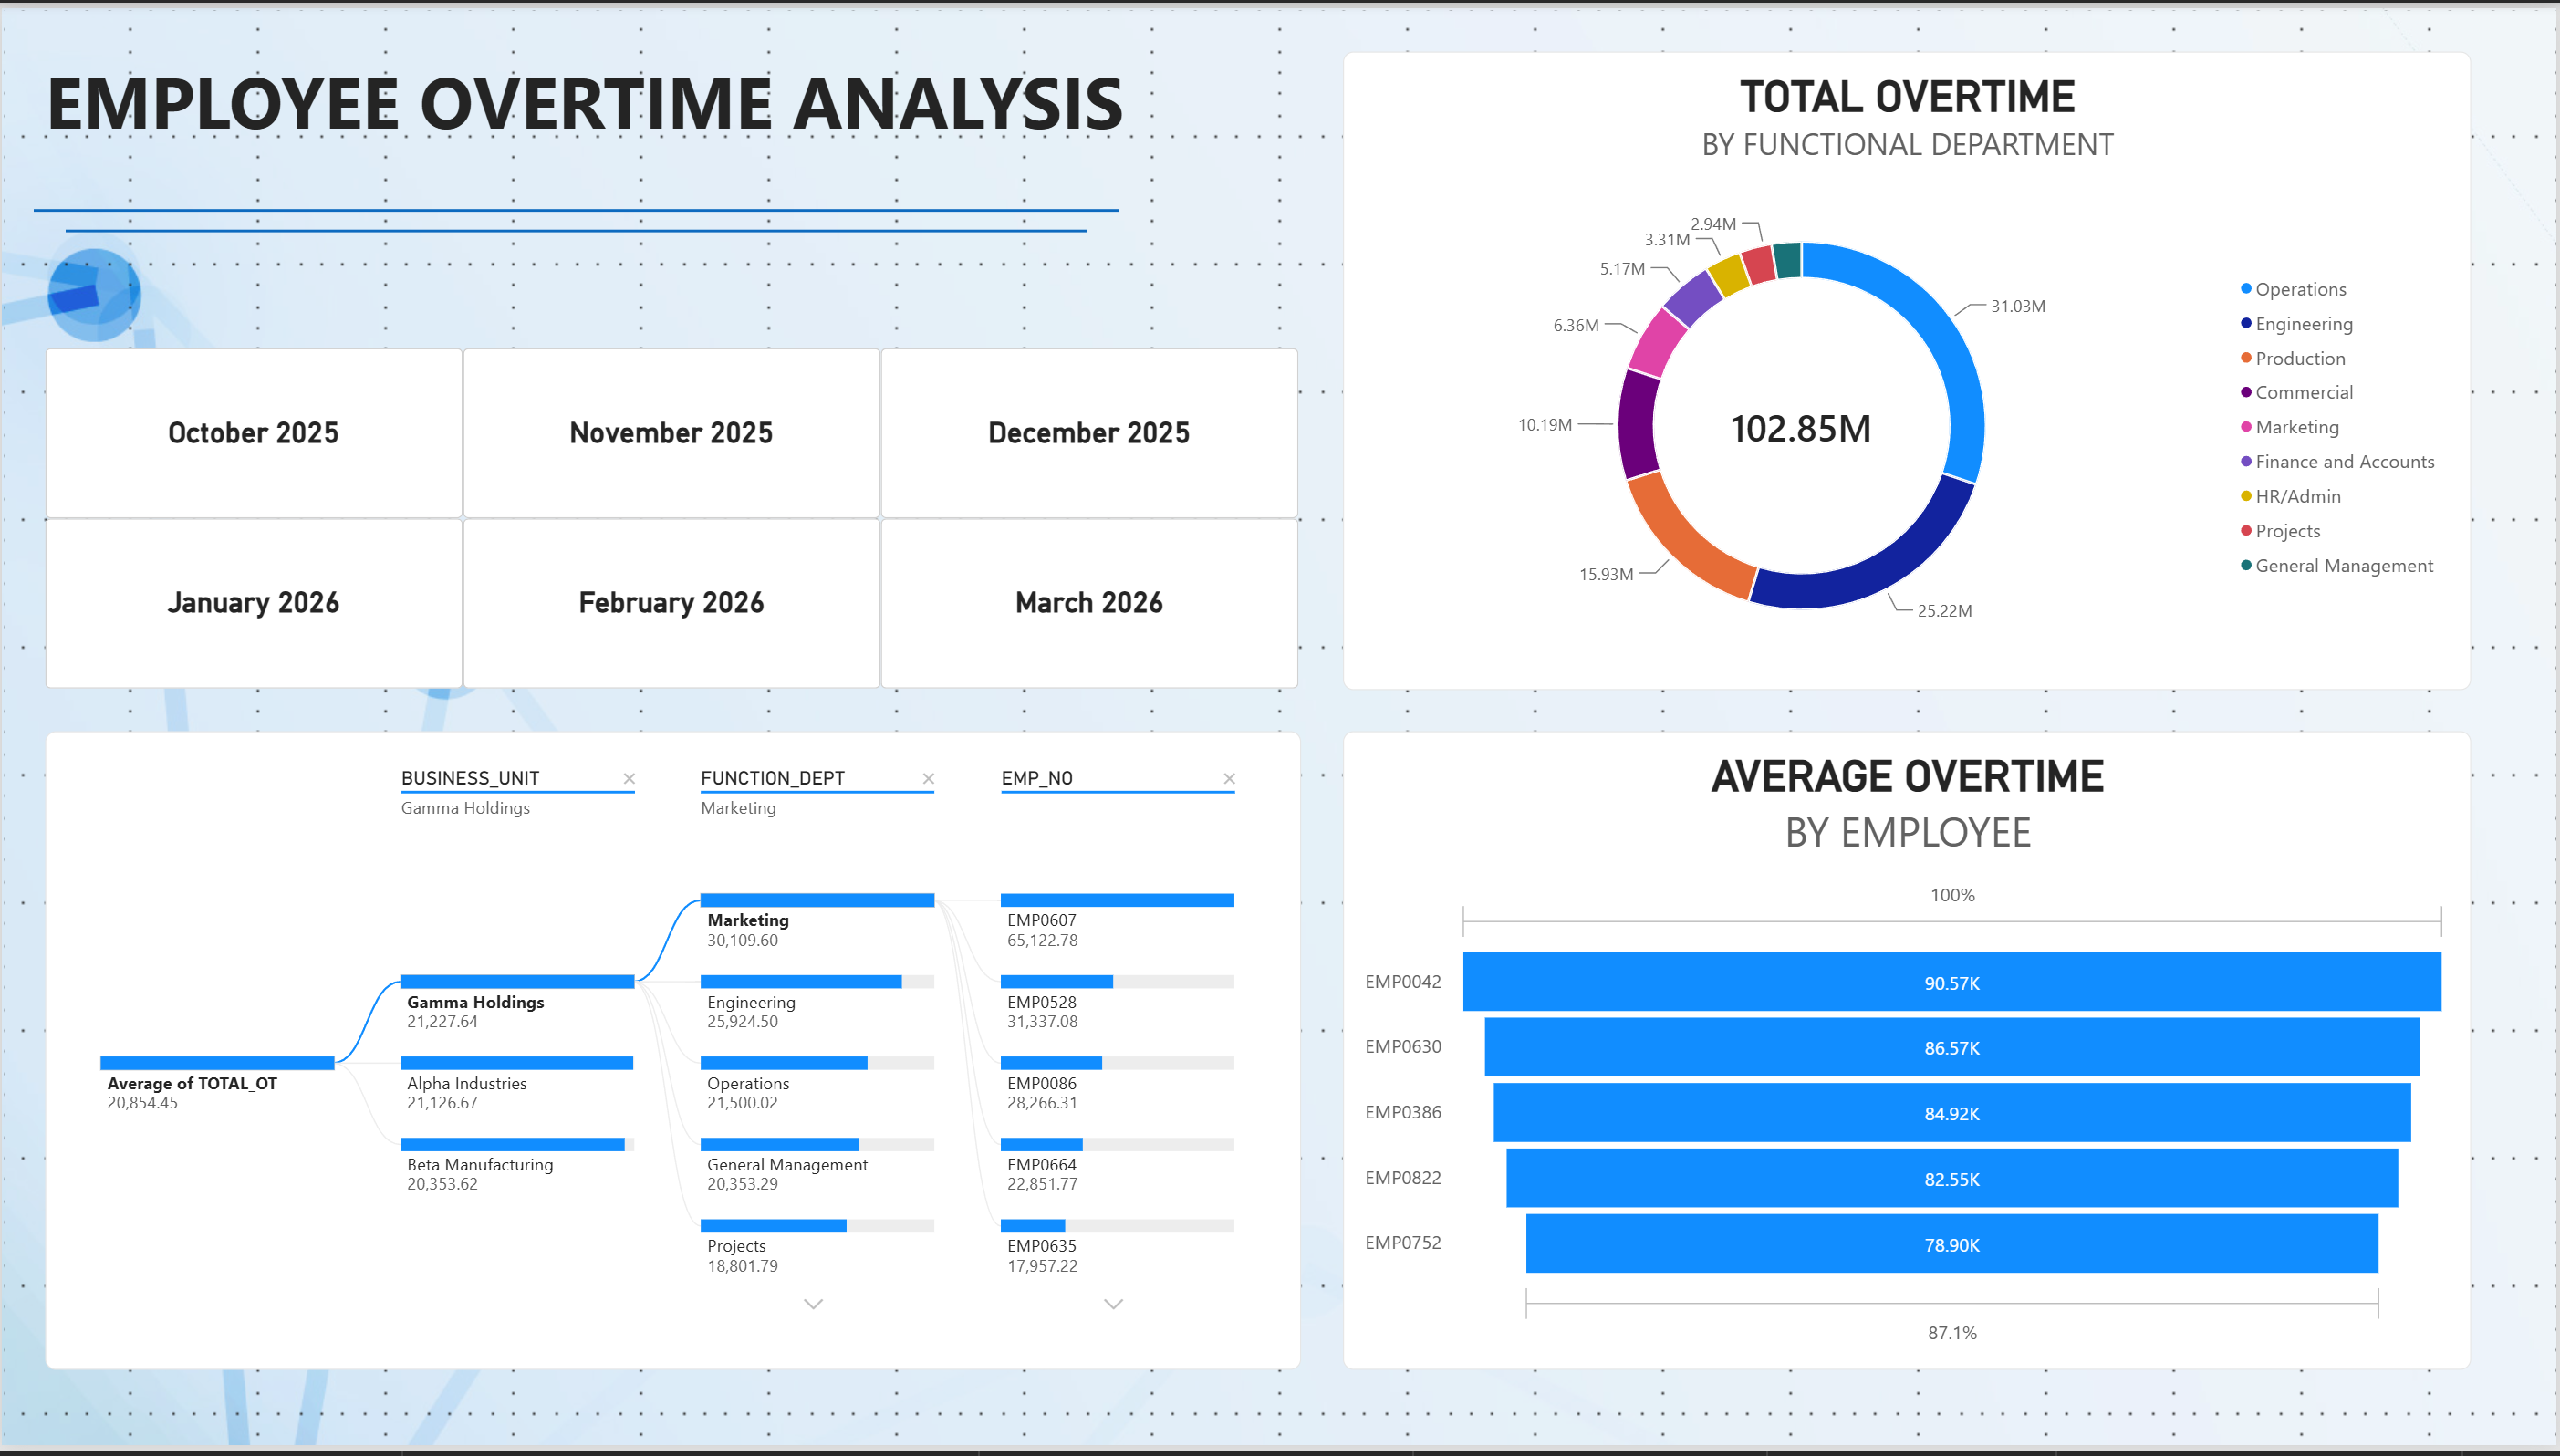

The page's visual inventory and layout, read from the dashboard file:
{"tool":"powerbi","page":{"name":"OVERTIME ANALYSIS","canvas":[1920,1080],"ordinal":3},"visuals":[{"type":"group","id":"g1","title":"Group 1","box":[24,0,952,320],"z":0},{"type":"textbox","box":[32,32,944,224],"z":0,"group":"g1"},{"type":"shape","box":[24,0,816,304],"z":1000,"group":"g1"},{"type":"decompositionTreeVisual","fields":{"Analyze":["Avg(Salary Data.TOTAL_OT)"],"ExplainBy":["Salary Data.BUSINESS_UNIT","Salary Data.FUNCTION_DEPT","Salary Data.EMP_NO"]},"box":[32,544,944,480],"z":1000},{"type":"shape","box":[48,16,768,304],"z":2000,"group":"g1"},{"type":"funnel","title":"AVERAGE OVERTIME","fields":{"Y":["Avg(Salary Data.TOTAL_OT)"],"Category":["Salary Data.EMP_NO"]},"box":[1008,544,848,480],"z":2000},{"type":"donutChart","title":"TOTAL OVERTIME","fields":{"Category":["Salary Data.FUNCTION_DEPT"],"Y":["Sum(Salary Data.TOTAL_OT)"]},"box":[1008,32,848,480],"z":3000},{"type":"advancedSlicerVisual","fields":{"Values":["Salary Data.MONTH_YEAR"]},"box":[32,256,944,256],"z":4000}]}

Visuals, with their boxes in screenshot pixels (x1, y1, x2, y2), scaled from the page's 1920x1080 canvas onto the 2560x1456 screenshot:
"Group 1" group: x1=32 y1=0 x2=1301 y2=432
textbox: x1=43 y1=43 x2=1301 y2=345
shape: x1=32 y1=0 x2=1120 y2=410
decompositionTreeVisual - Avg(Salary Data.TOTAL_OT) x Salary Data.BUSINESS_UNIT: x1=43 y1=733 x2=1301 y2=1380
shape: x1=64 y1=22 x2=1088 y2=432
"AVERAGE OVERTIME" funnel: x1=1344 y1=733 x2=2474 y2=1380
"TOTAL OVERTIME" donutChart: x1=1344 y1=43 x2=2474 y2=691
advancedSlicerVisual - Salary Data.MONTH_YEAR: x1=43 y1=345 x2=1301 y2=691
